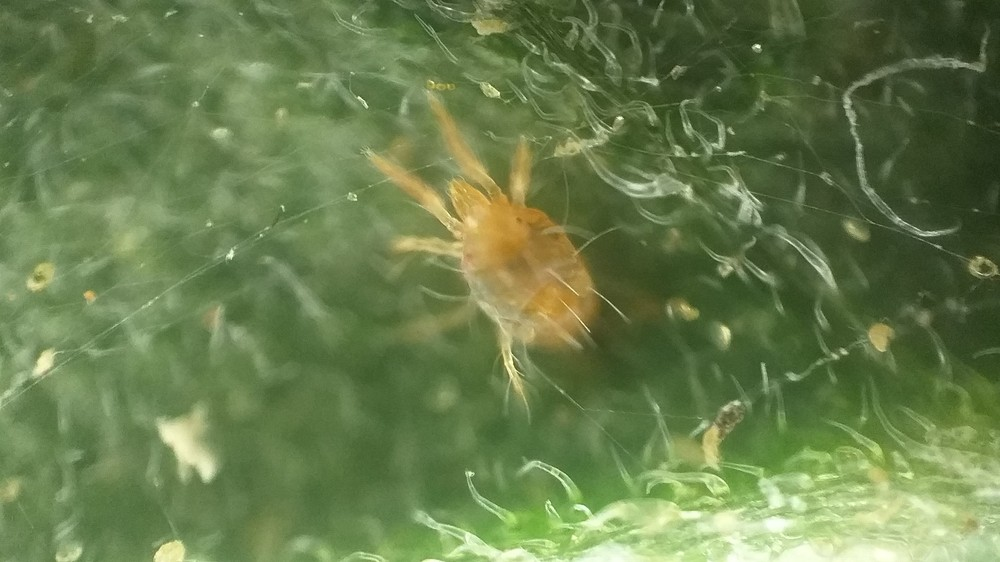Aracnido Rojo: (348, 92, 685, 421)
